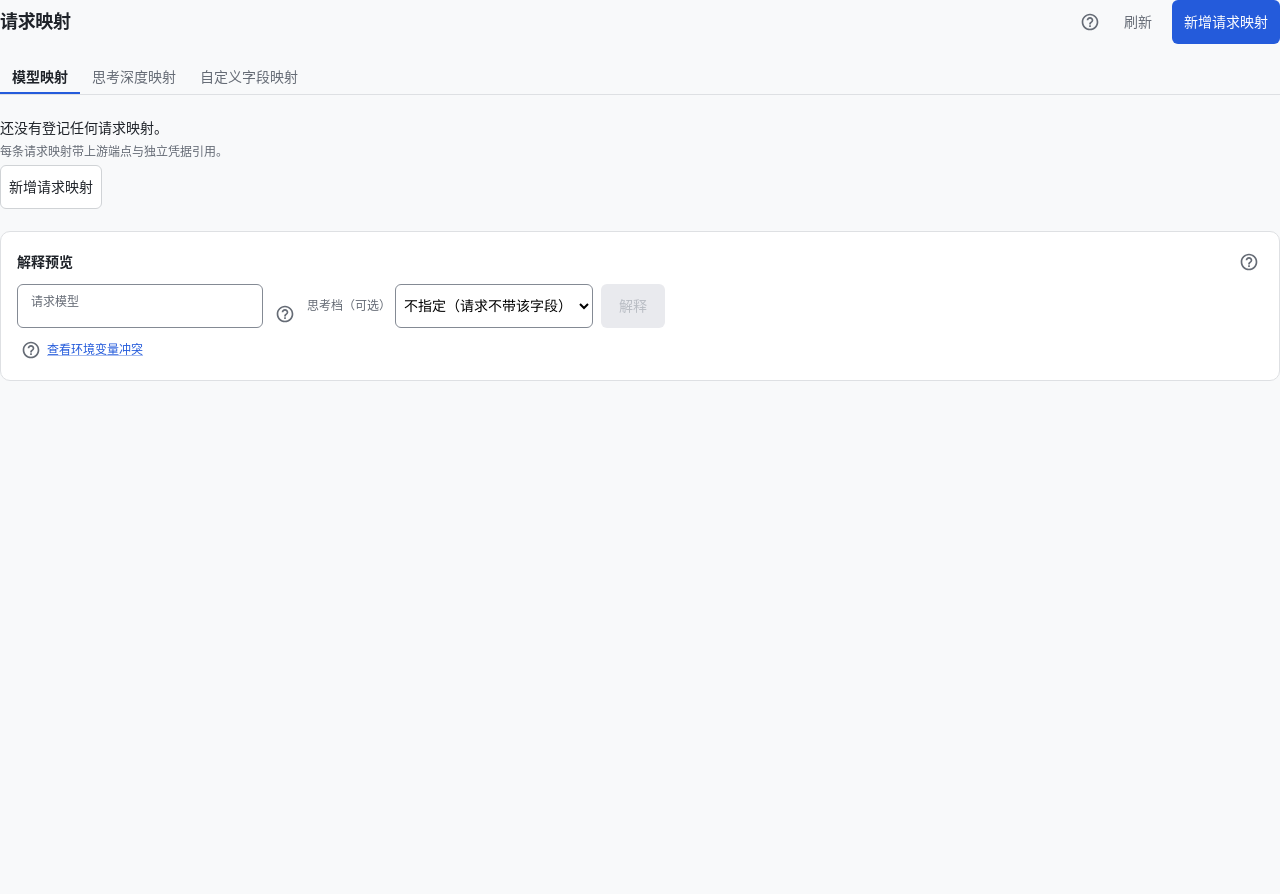
Test: RouterPage 解释预览（UC-096 A1–A6） › 空表（未配置）→ 透传说明与既有口径一致（直连网关、与 yzagmgr 配置等价）
Type "any-model" into the field labelled "请求模型" at x=140, y=306, box x1=17 y1=287 x2=263 y2=324
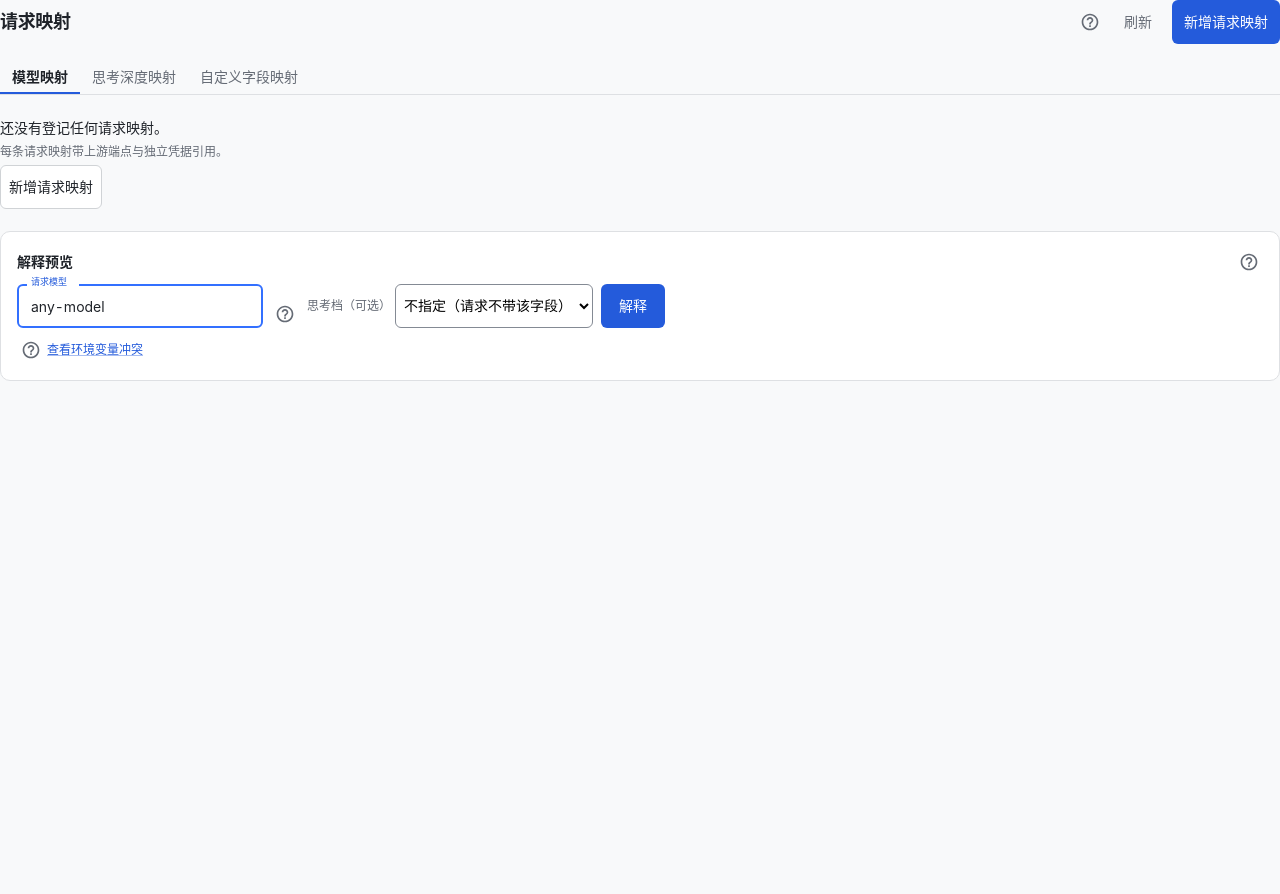
Click the button "解释" at x=633, y=306, box x1=601 y1=284 x2=665 y2=328
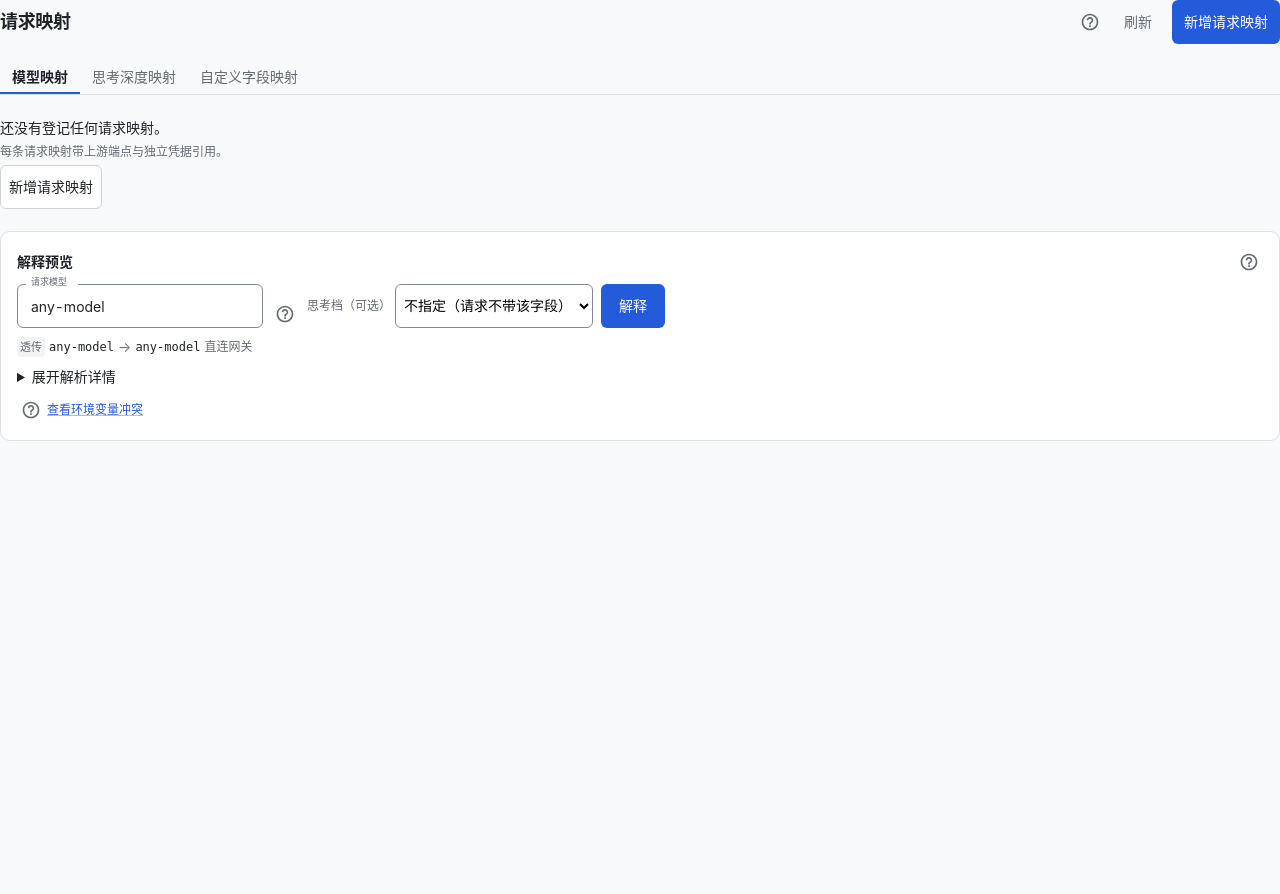
Now the heading "展开解析详情" is shown
Click the heading "展开解析详情" at x=74, y=376, box x1=32 y1=368 x2=116 y2=385
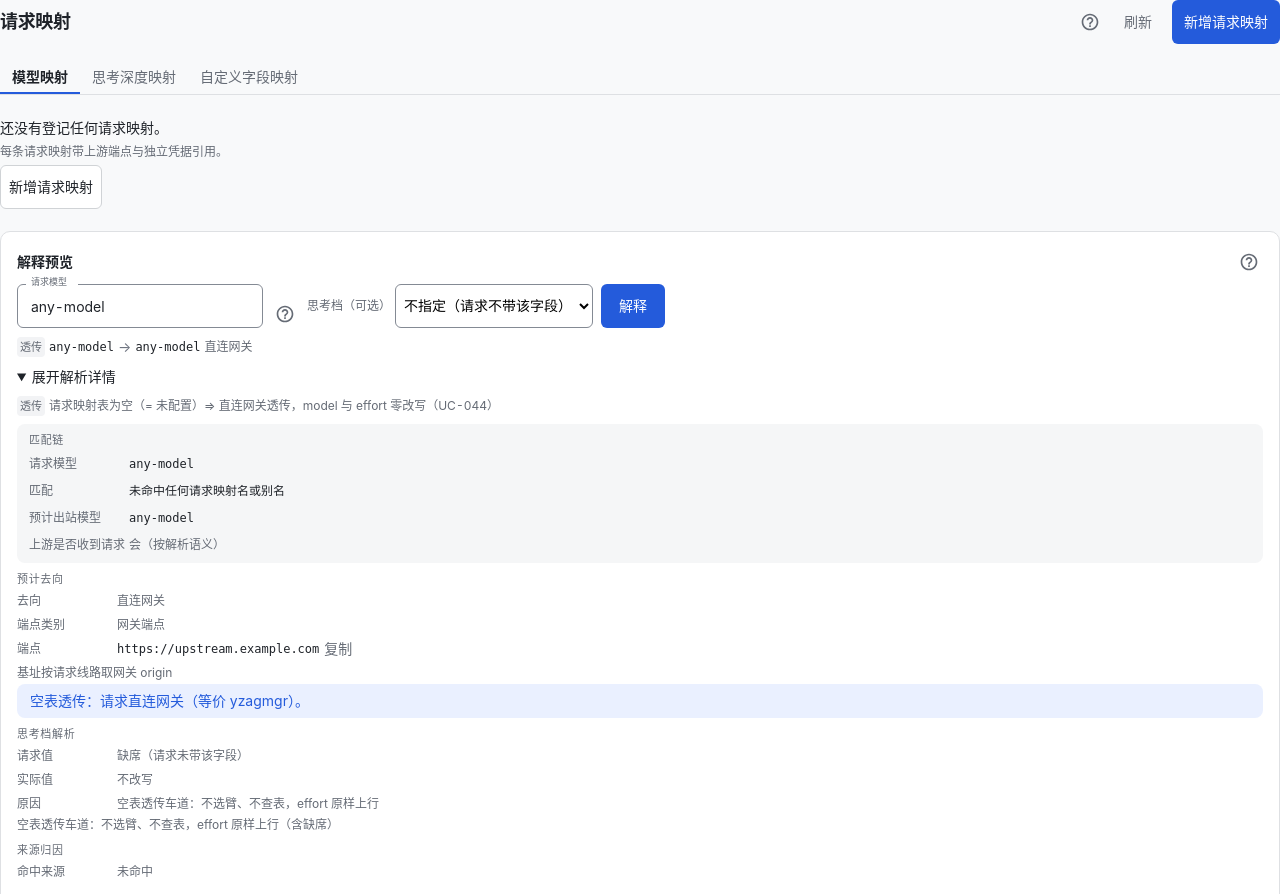
Now the 1st text "直连网关" is shown, box x1=204 y1=338 x2=252 y2=356
Now the text "空表透传：请求直连网关（等价 yzagmgr）。" is shown, box x1=30 y1=692 x2=309 y2=708
Now the text "未命中任何请求映射名或别名" is shown, box x1=129 y1=484 x2=285 y2=498
